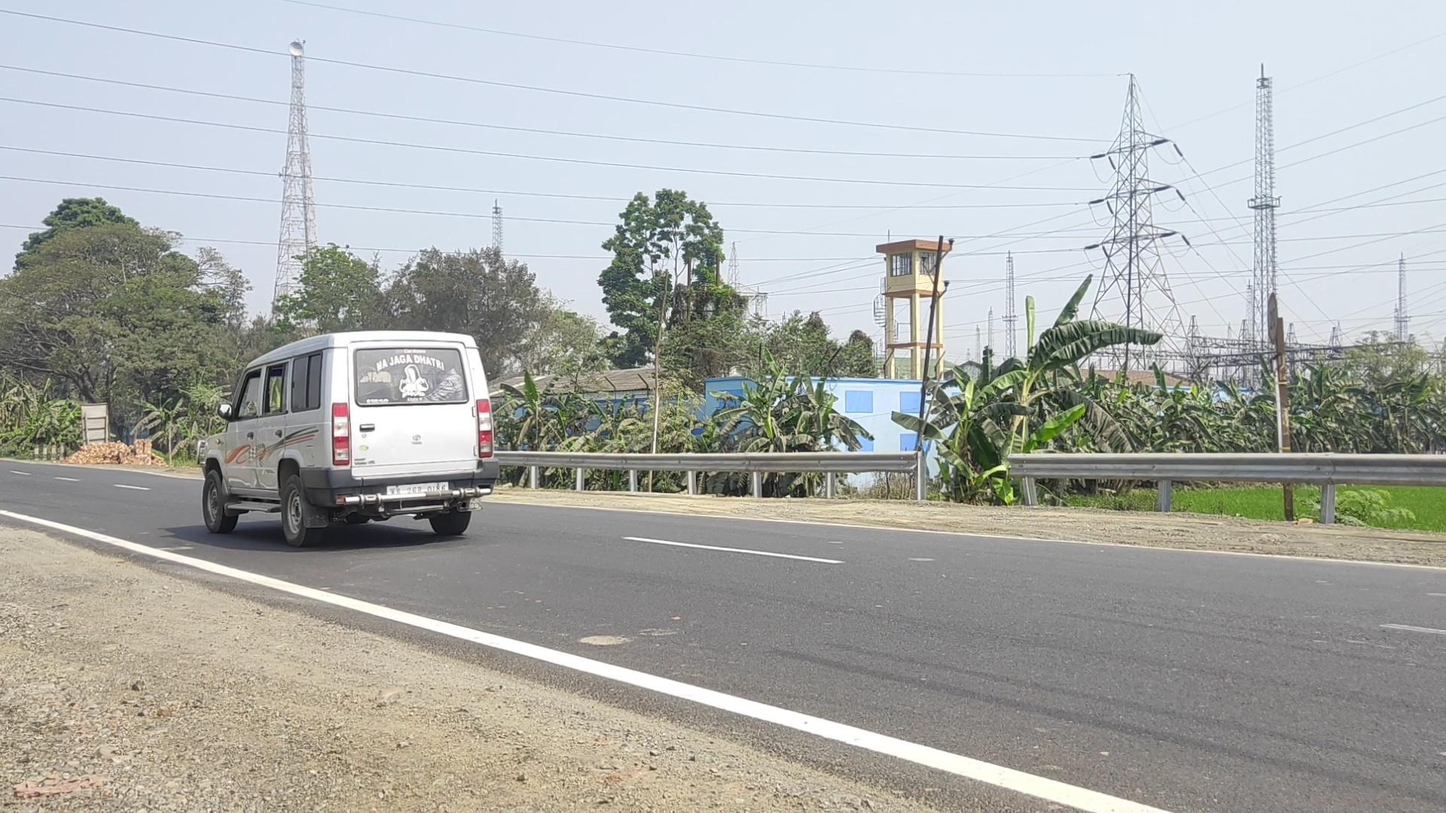car: (197, 330, 498, 548)
